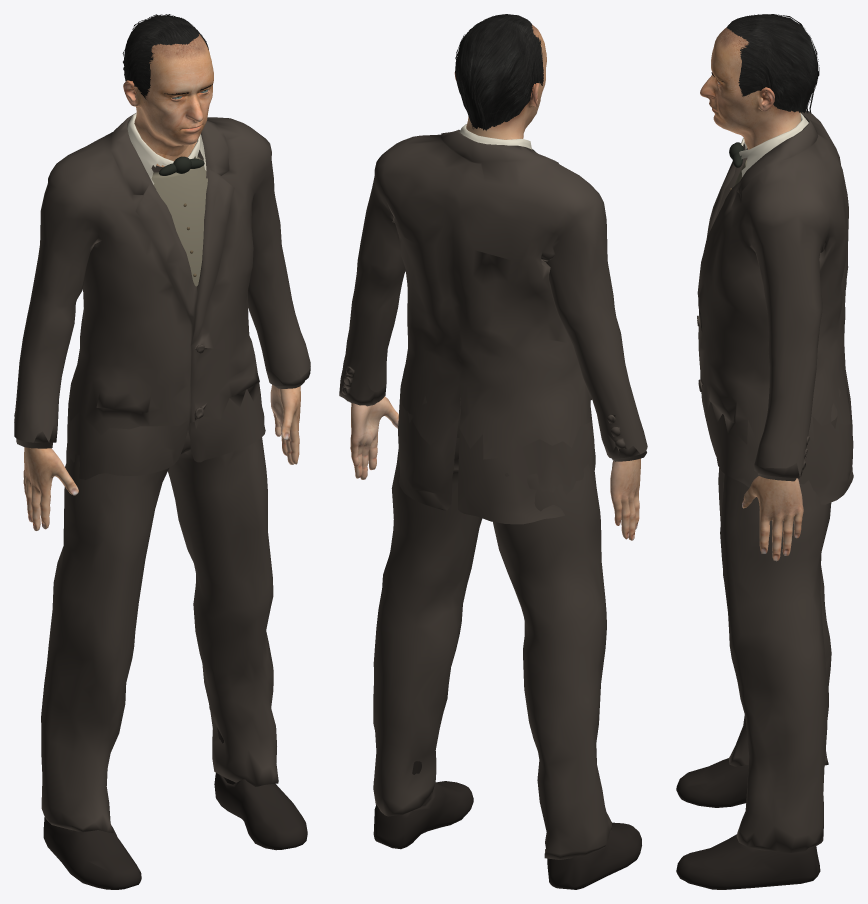
File: registrar-characters.glb
The picture shows the model from 3 angles, left to right: view 1: azimuth 30°, elevation 25°; view 2: azimuth 150°, elevation 25°; view 3: azimuth 270°, elevation 25°; orthographic projection.
Parts seen in each view (by area): view 1: registrar_upper_Coat, registrar_root_Coat, registrar_root_Boot, registrar_head_Skin, registrar_upper_Skin, registrar_upper_Waistcoat, registrar_head_Hair, registrar_upper_Shirt; view 2: registrar_upper_Coat, registrar_root_Coat, registrar_head_Hair, registrar_root_Boot, registrar_upper_Skin, registrar_head_Skin; view 3: registrar_upper_Coat, registrar_root_Coat, registrar_root_Boot, registrar_head_Hair, registrar_head_Skin, registrar_upper_Skin, registrar_upper_Shirt.
Boxes of the visible parts, x1=… form: registrar_upper_Coat: x1=14, y1=113, x2=310, y2=442; registrar_root_Coat: x1=16, y1=367, x2=310, y2=832; registrar_root_Boot: x1=43, y1=727, x2=307, y2=889; registrar_head_Skin: x1=123, y1=34, x2=213, y2=156; registrar_upper_Skin: x1=23, y1=143, x2=300, y2=530; registrar_upper_Waistcoat: x1=151, y1=156, x2=207, y2=286; registrar_head_Hair: x1=122, y1=14, x2=208, y2=99; registrar_upper_Shirt: x1=127, y1=112, x2=206, y2=184; registrar_upper_Coat: x1=339, y1=129, x2=647, y2=459; registrar_root_Coat: x1=339, y1=382, x2=646, y2=859; registrar_head_Hair: x1=455, y1=14, x2=543, y2=130; registrar_root_Boot: x1=373, y1=761, x2=641, y2=889; registrar_upper_Skin: x1=350, y1=396, x2=640, y2=540; registrar_head_Skin: x1=454, y1=24, x2=546, y2=139; registrar_upper_Coat: x1=697, y1=110, x2=850, y2=477; registrar_root_Coat: x1=702, y1=384, x2=853, y2=852; registrar_root_Boot: x1=676, y1=758, x2=820, y2=889; registrar_head_Hair: x1=727, y1=14, x2=819, y2=113; registrar_head_Skin: x1=700, y1=27, x2=800, y2=148; registrar_upper_Skin: x1=742, y1=147, x2=803, y2=561; registrar_upper_Shirt: x1=739, y1=113, x2=808, y2=176.
Bounding box in the file's own units: 0.6576 × 1.76 × 0.3444.
Materials: 10 (4 with a texture image).
